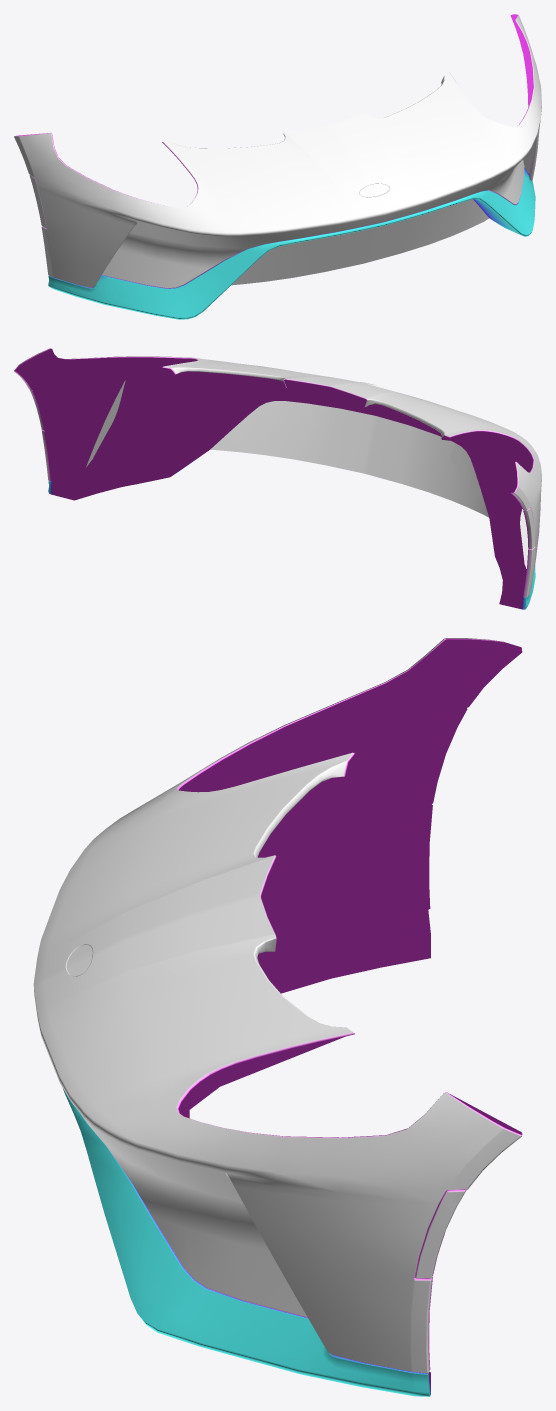
The model's file is Car_Ford_GT_2017_BumperF_SetA.fbx.
3 renders of one model, top to bottom at view 1: azimuth 30°, elevation 25°; view 2: azimuth 150°, elevation 25°; view 3: azimuth 270°, elevation 25°, orthographic. The views are drawn at different scales.
Visible parts, largest first — view 1: BumperF 6; view 2: BumperF 6; view 3: BumperF 6.
Part boxes in pixels (x1=…): BumperF 6: x1=14, y1=14, x2=541, y2=319; BumperF 6: x1=14, y1=348, x2=541, y2=609; BumperF 6: x1=33, y1=638, x2=522, y2=1396.
Size of the model in its own units: 1.95 by 0.5584 by 0.8244.
